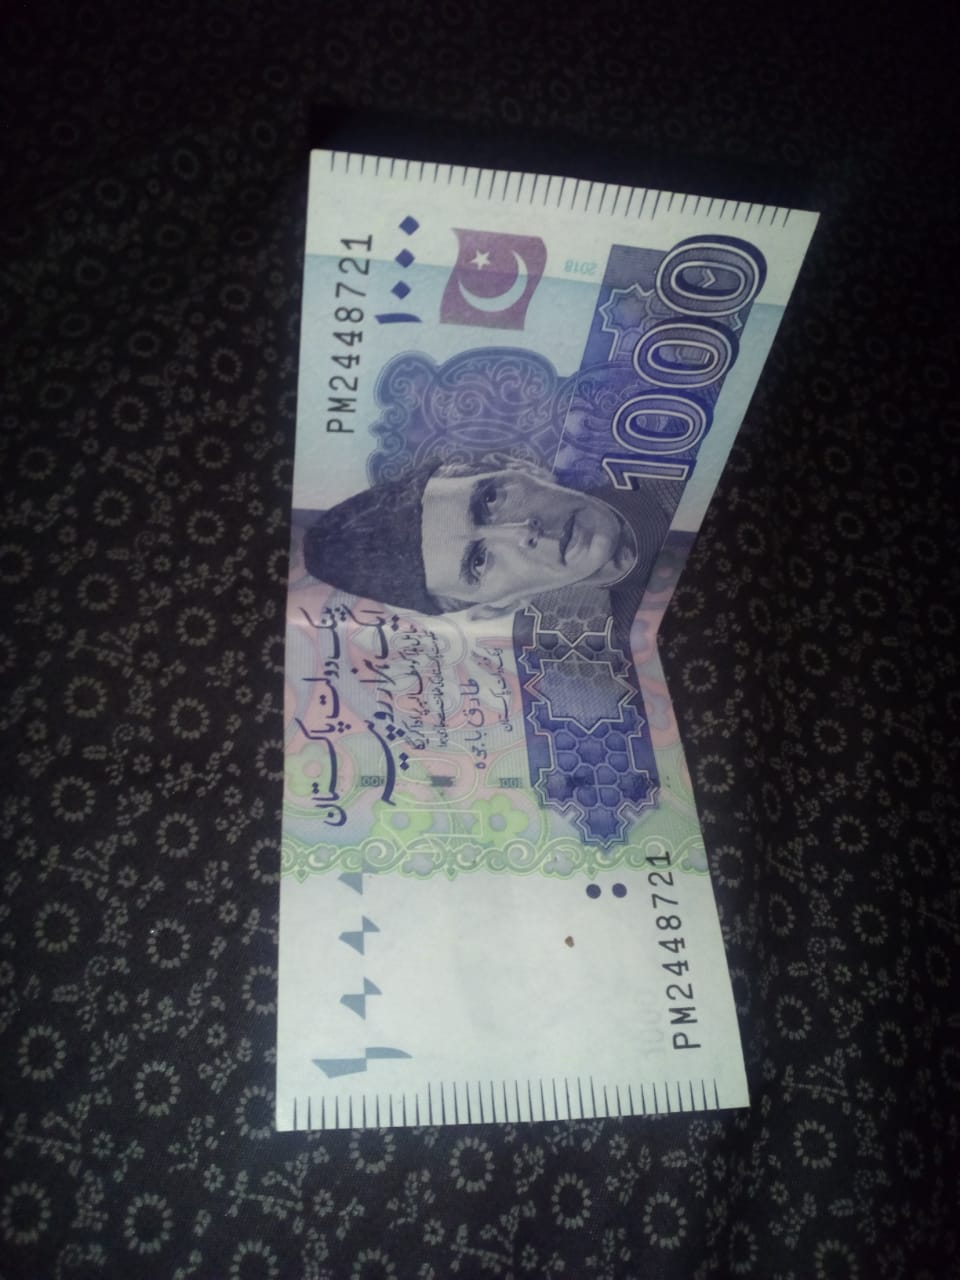1000 rupee: (262, 109, 810, 1160)
